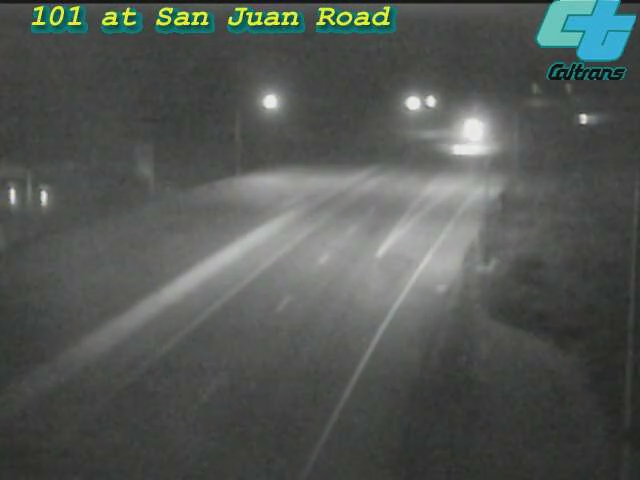vehicle: (558, 95, 608, 145), (450, 104, 500, 154), (444, 125, 494, 175)
